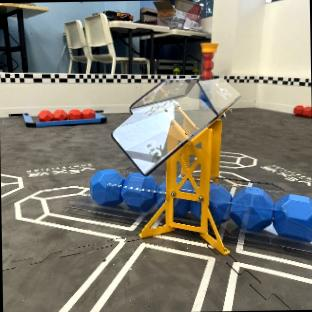V5_BLUE: (229, 186, 312, 241), (90, 169, 164, 210), (209, 182, 231, 222)
V5_RED: (38, 108, 95, 122), (200, 42, 216, 77), (294, 105, 311, 116)
